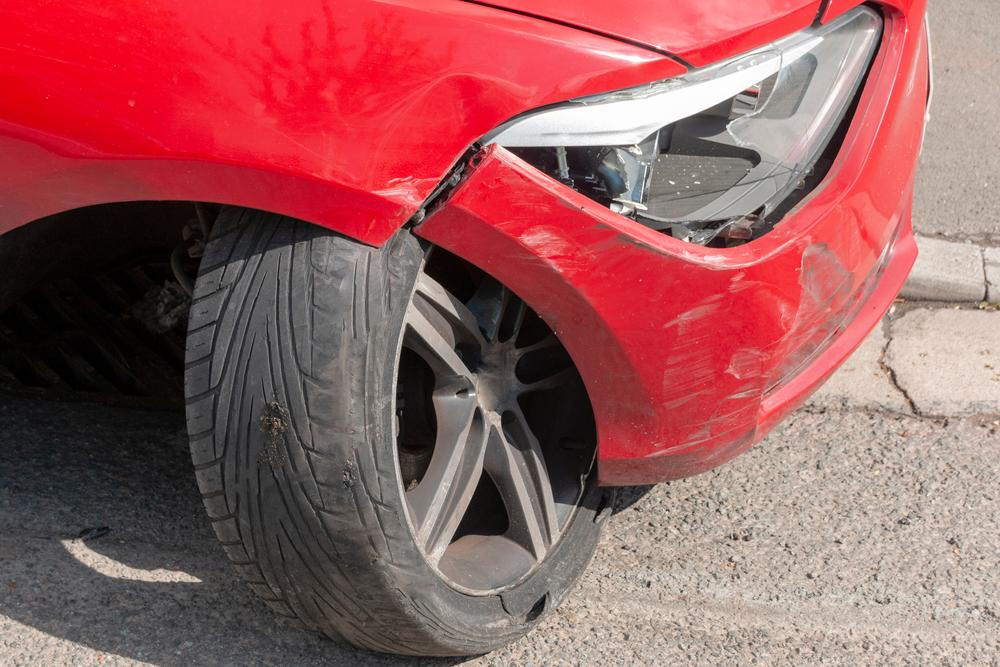dent: (378, 73, 530, 205)
lamp broken: (489, 6, 885, 244)
scratch: (510, 196, 893, 454)
tire flat: (188, 207, 608, 655)
